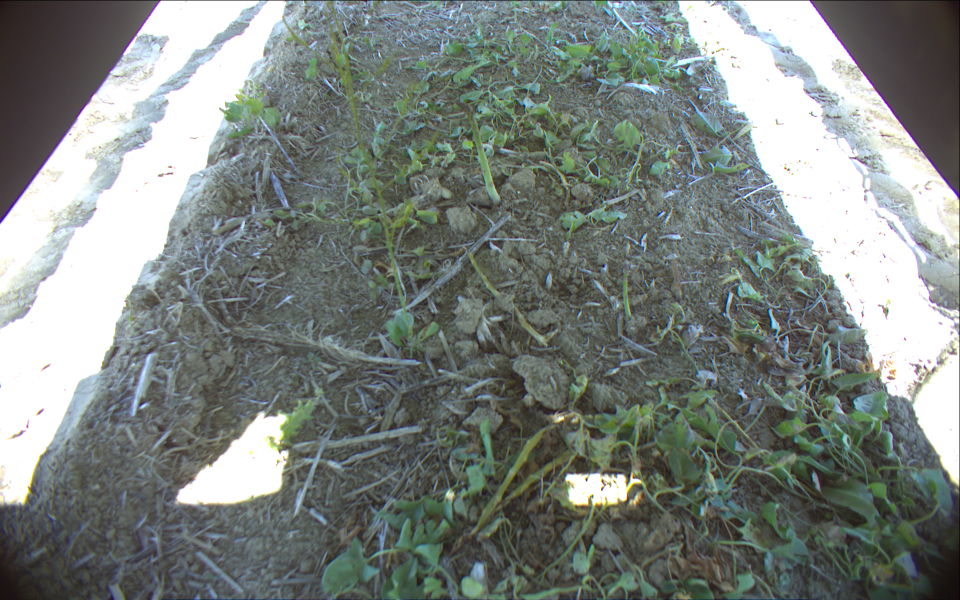aspa: (450, 98, 502, 208)
